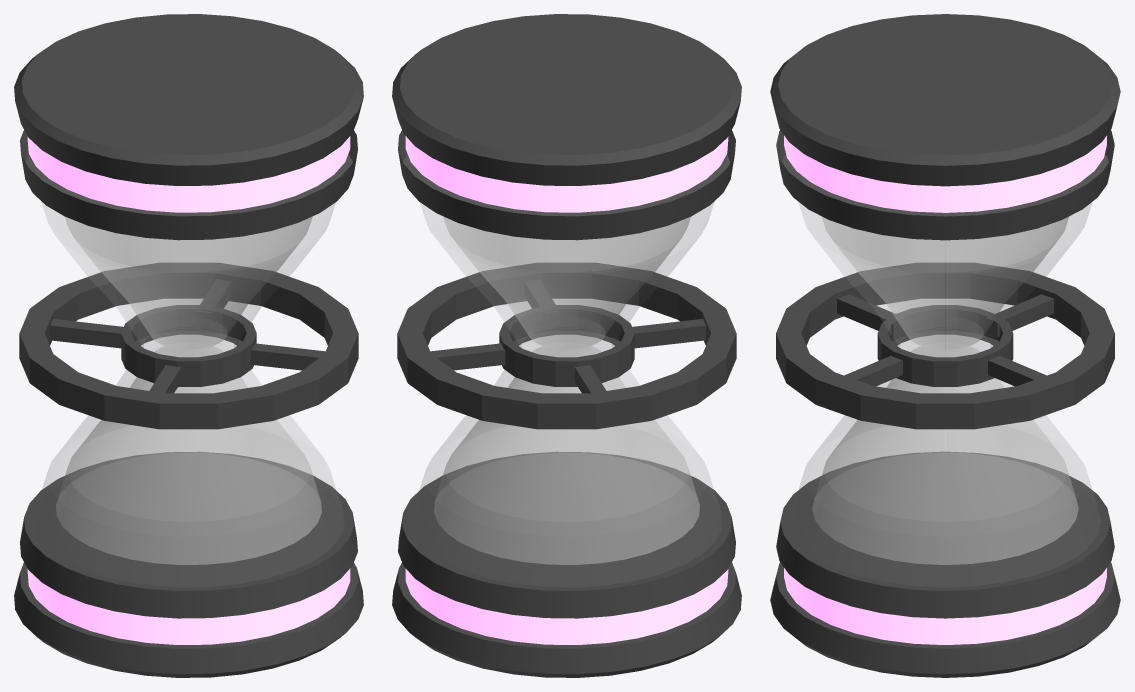
File: sandglass.fbx
The picture shows the model from 3 angles, left to right: view 1: azimuth 30°, elevation 25°; view 2: azimuth 150°, elevation 25°; view 3: azimuth 270°, elevation 25°; orthographic projection.
Visible parts, largest first — view 1: Sandglass, Rim, Sand_Down, Sand_Up; view 2: Sandglass, Rim, Sand_Down, Sand_Up; view 3: Sandglass, Rim, Sand_Down, Sand_Up.
Boxes of the visible parts, box(x1,y1,x2,y2) form: Sandglass: box(14, 14, 363, 677); Rim: box(19, 263, 358, 429); Sand_Down: box(56, 346, 321, 564); Sand_Up: box(65, 216, 312, 348); Sandglass: box(392, 14, 741, 677); Rim: box(397, 263, 736, 429); Sand_Down: box(434, 346, 699, 564); Sand_Up: box(443, 216, 690, 348); Sandglass: box(770, 14, 1120, 677); Rim: box(776, 263, 1114, 429); Sand_Down: box(812, 346, 1078, 564); Sand_Up: box(822, 217, 1068, 349).
Size of the model in its own units: 74.47 by 122 by 74.47.
